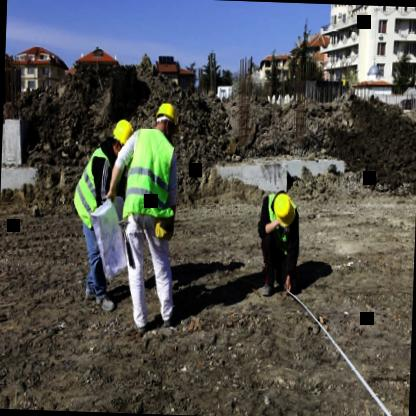helmet: (155, 99, 183, 135), (272, 194, 300, 228), (113, 118, 135, 156)
